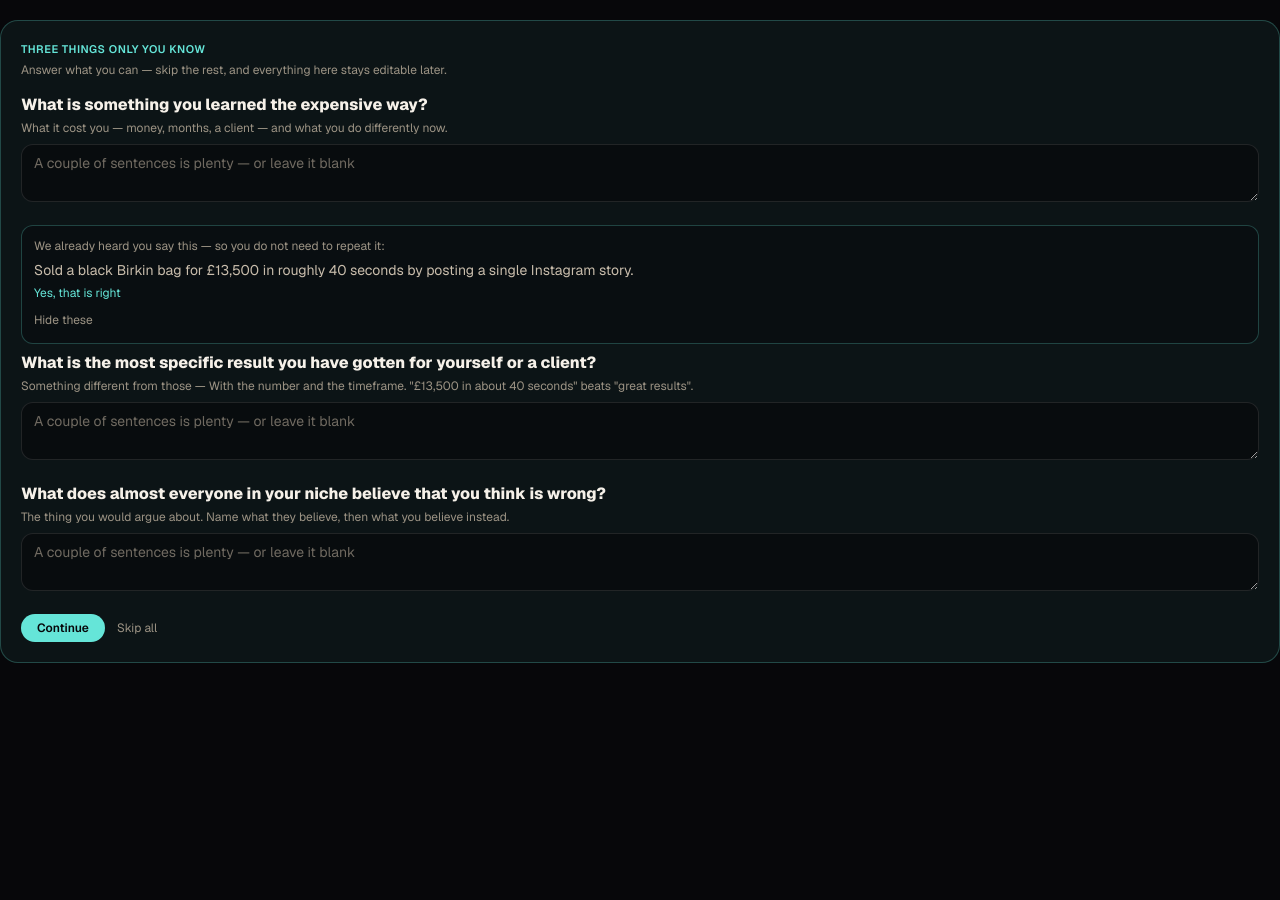
Test: hiding the card leaves the question exactly as it was › keeps every box, because the box was never the card
The image size is (1280, 900).
Expected: the text "We already heard you say" is shown, [34,238,385,254]
Expected: the number of text boxes with placeholder "A couple of sentences is plenty — or leave it blank" is 3, [21,144,1259,202]; [21,402,1259,460]; [21,532,1259,590]
Click the button "Hide these" at {"x": 63, "y": 320}, box [34,312,93,328]
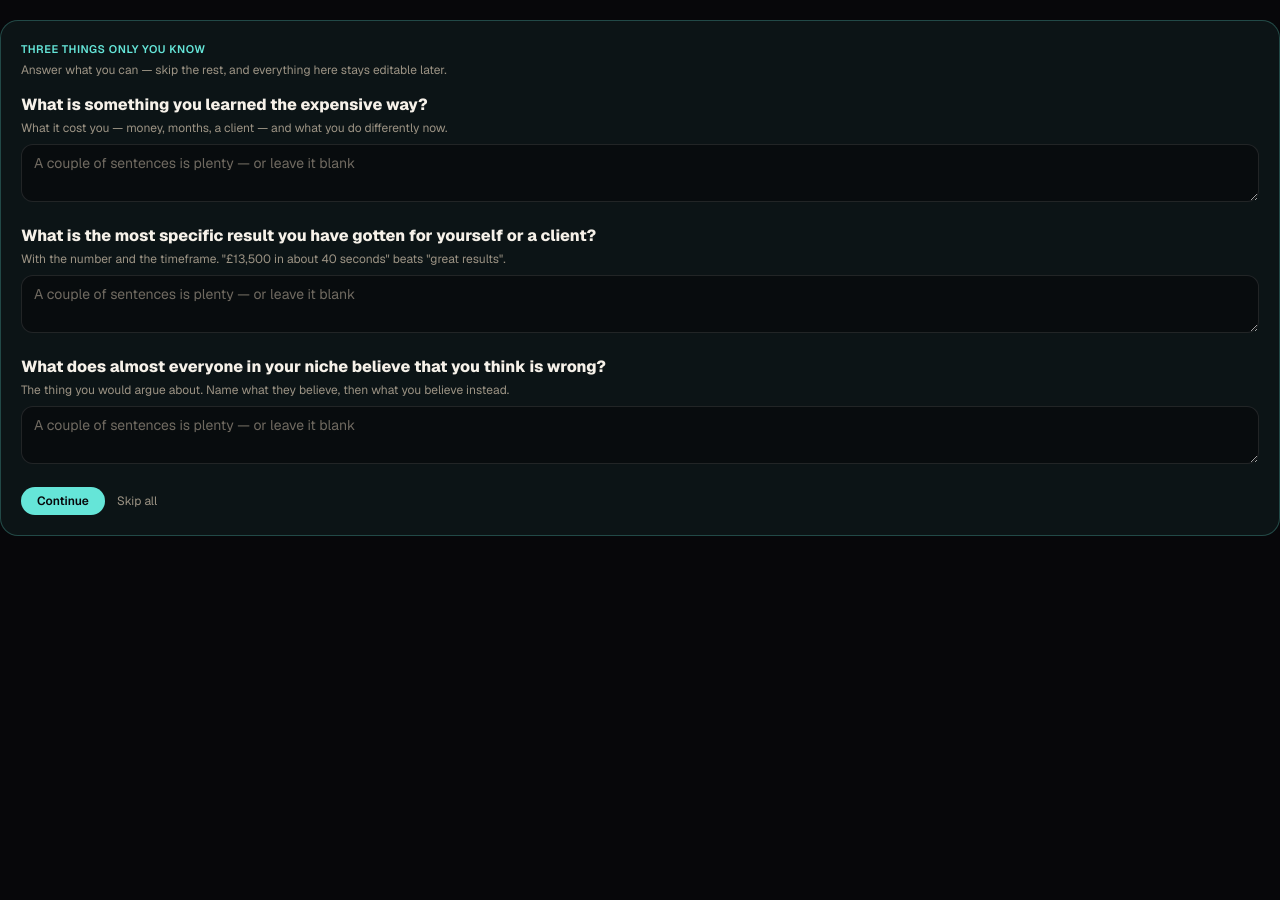
Expected: the number of text boxes with placeholder "A couple of sentences is plenty — or leave it blank" is 3, [21,144,1259,202]; [21,274,1259,332]; [21,406,1259,464]
Now the text "We already heard you say" is gone
